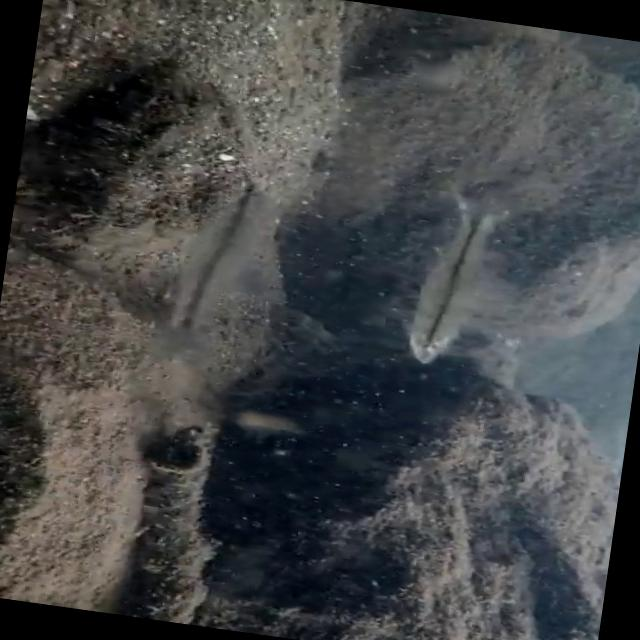Cakil Baligi: (134, 170, 302, 382), (392, 202, 513, 374)
